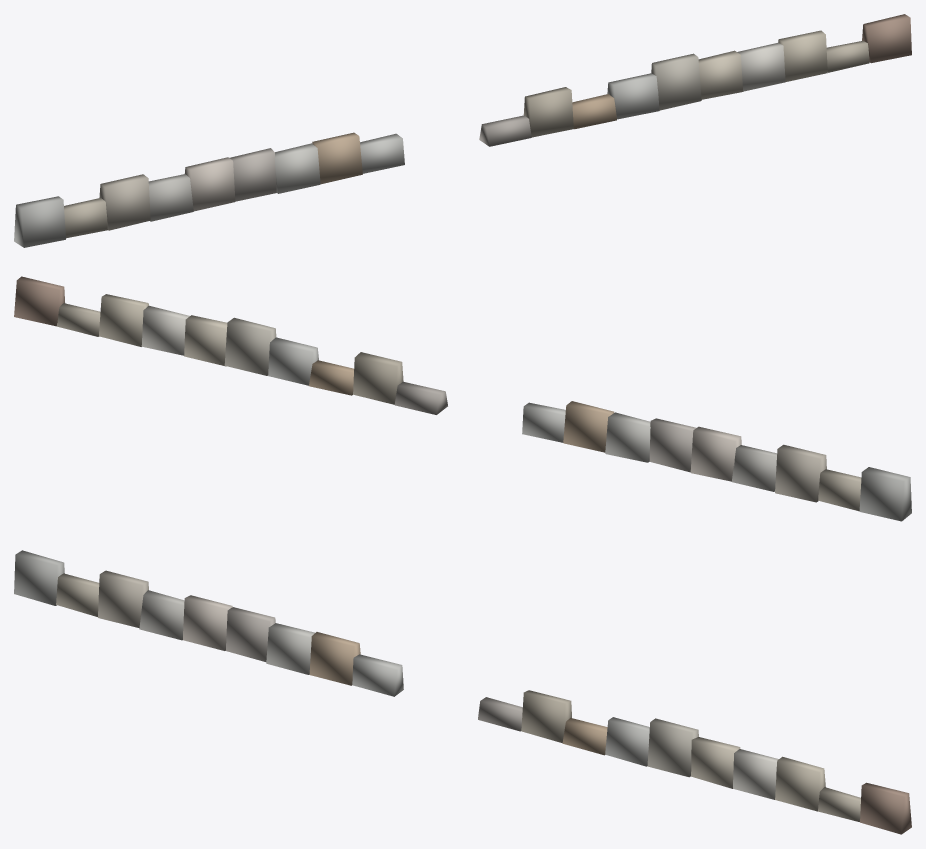
Rendered from farm_35_23_far.glb.
3 views of the same model, one above another, from view 1: azimuth 30°, elevation 25°; view 2: azimuth 150°, elevation 25°; view 3: azimuth 330°, elevation 25° (orthographic).
Visible parts, largest first — view 1: geometry_0; view 2: geometry_0; view 3: geometry_0.
Part boxes in pixels (left/top/right/bottom): geometry_0: left=14, top=14, right=911, bottom=247; geometry_0: left=14, top=276, right=911, bottom=521; geometry_0: left=14, top=550, right=911, bottom=834.
Size of the model in its own units: 33.6 by 2.09 by 1.01.
